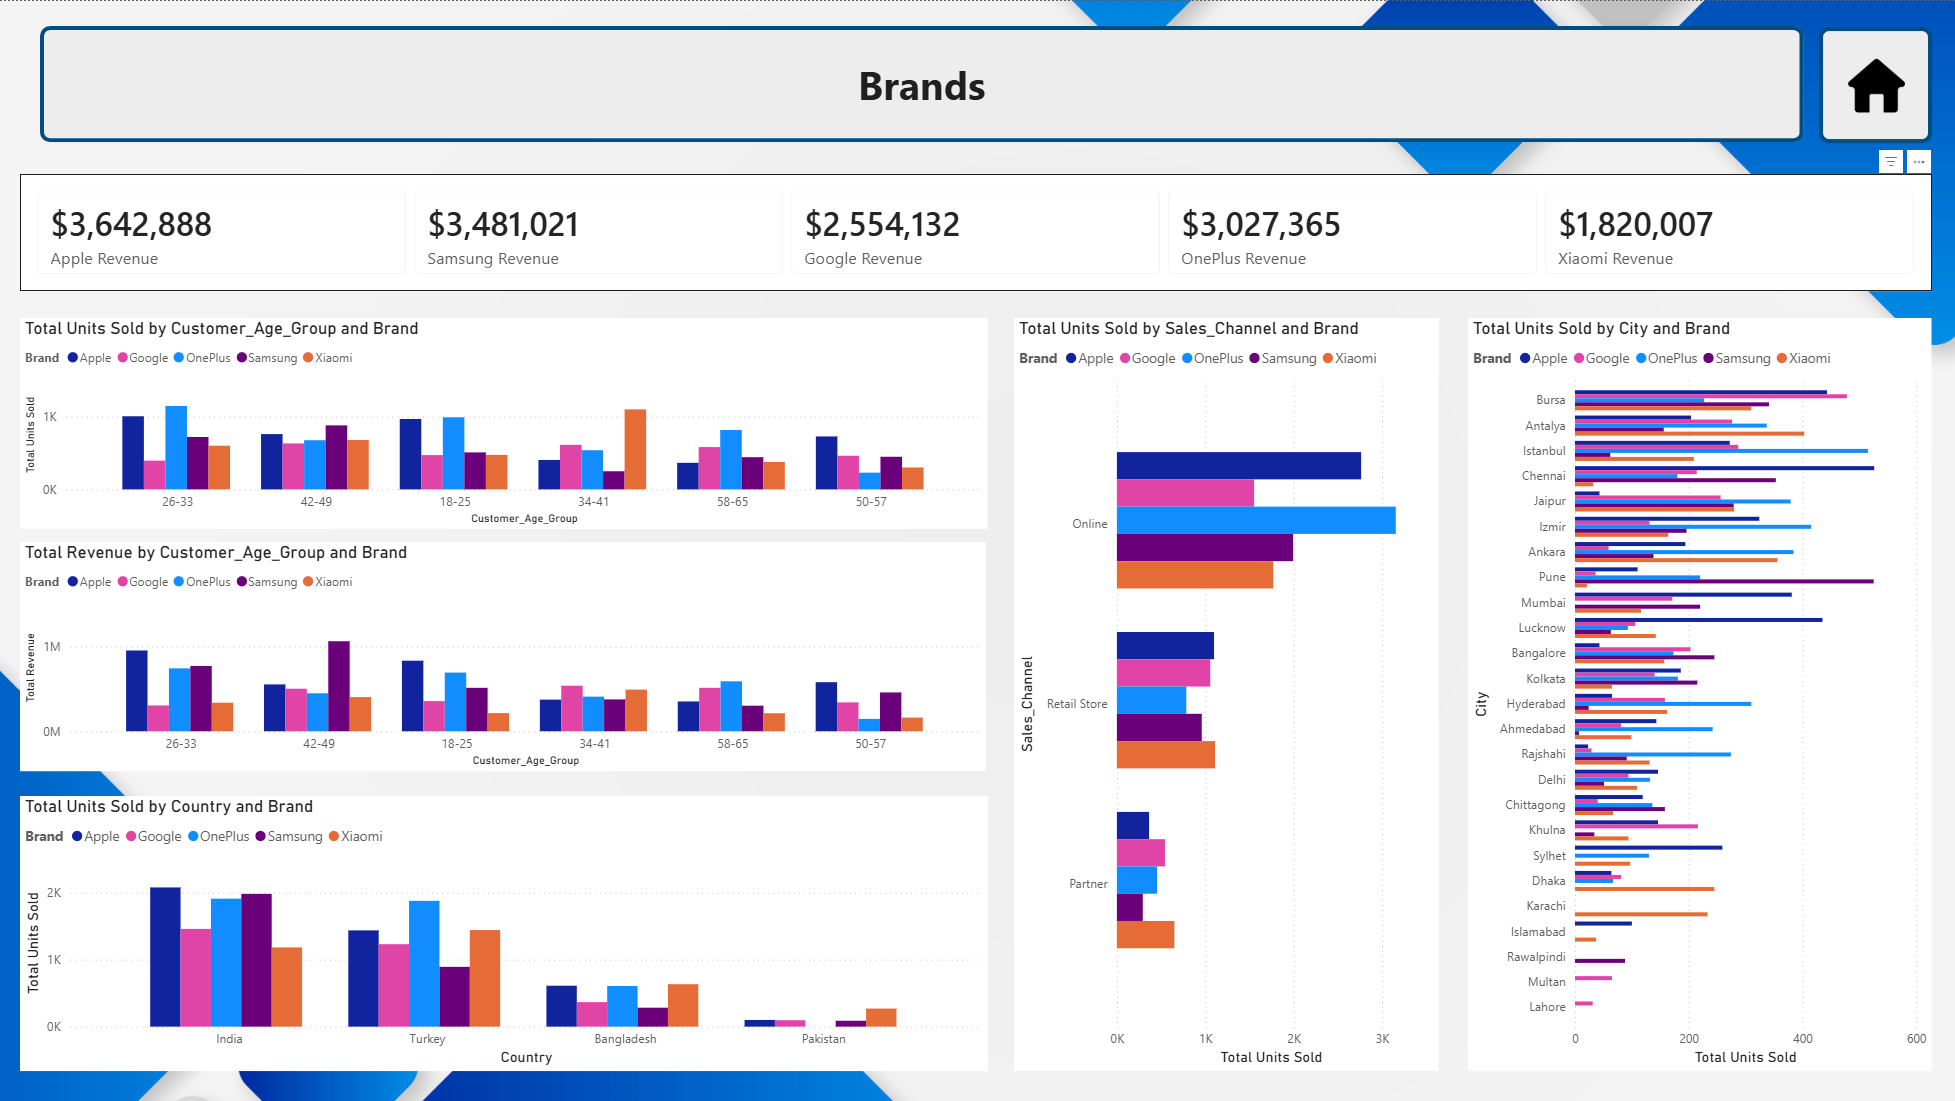

The page's visual inventory and layout, read from the dashboard file:
{"tool":"powerbi","page":{"name":"Brands","canvas":[1920,1080],"ordinal":1},"visuals":[{"type":"shape","box":[40.7,24.9,1731.2,114.2],"z":0},{"type":"image","box":[1786.2,25.2,110.7,114],"z":1000},{"type":"cardVisual","fields":{"Data":["Mobile_Sales.Apple","Mobile_Sales.Samsung Revenue","Mobile_Sales.Google Revenue","Mobile_Sales.OnePlus Revenue","Mobile_Sales.Xiaomi Revenue"]},"box":[20.8,170,1876.1,115.1],"z":2000},{"type":"clusteredColumnChart","fields":{"Y":["Mobile_Sales.Total Units Sold"],"Category":["Mobile_Sales.Customer_Age_Group"],"Series":["Mobile_Sales.Brand"]},"box":[20.8,311.4,949.6,207.2],"z":3000},{"type":"clusteredColumnChart","fields":{"Category":["Mobile_Sales.Customer_Age_Group"],"Series":["Mobile_Sales.Brand"],"Y":["Mobile_Sales.Total Revenue"]},"box":[20.8,530.7,948.5,224.8],"z":4000},{"type":"clusteredColumnChart","fields":{"Y":["Mobile_Sales.Total Units Sold"],"Series":["Mobile_Sales.Brand"],"Category":["Mobile_Sales.Country"]},"box":[20.8,780.7,949.6,269.7],"z":5000},{"type":"clusteredBarChart","fields":{"Series":["Mobile_Sales.Brand"],"Y":["Mobile_Sales.Total Units Sold"],"Category":["Mobile_Sales.City"]},"box":[1441.9,311.4,455.1,739.1],"z":6000},{"type":"clusteredBarChart","fields":{"Series":["Mobile_Sales.Brand"],"Y":["Mobile_Sales.Total Units Sold"],"Category":["Mobile_Sales.Sales_Channel"]},"box":[996.7,311.4,416.7,739.1],"z":7000}]}

Visuals, with their boxes in screenshot pixels (x1, y1, x2, y2), scaled from the page's 1920x1080 canvas onto the 1955x1101 screenshot:
shape: [41, 25, 1804, 142]
image: [1819, 26, 1931, 142]
cardVisual - Mobile_Sales.Apple x Mobile_Sales.Samsung Revenue: [21, 173, 1931, 291]
clusteredColumnChart - Mobile_Sales.Total Units Sold x Mobile_Sales.Customer_Age_Group: [21, 317, 988, 529]
clusteredColumnChart - Mobile_Sales.Customer_Age_Group x Mobile_Sales.Brand: [21, 541, 987, 770]
clusteredColumnChart - Mobile_Sales.Total Units Sold x Mobile_Sales.Brand: [21, 796, 988, 1071]
clusteredBarChart - Mobile_Sales.Brand x Mobile_Sales.Total Units Sold: [1468, 317, 1932, 1071]
clusteredBarChart - Mobile_Sales.Brand x Mobile_Sales.Total Units Sold: [1015, 317, 1439, 1071]
